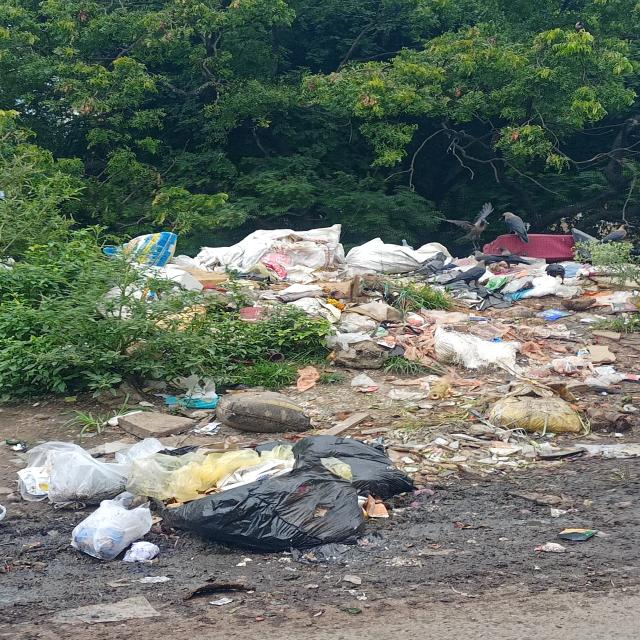garbage: (120, 224, 640, 364), (36, 429, 443, 572), (432, 339, 640, 475)
